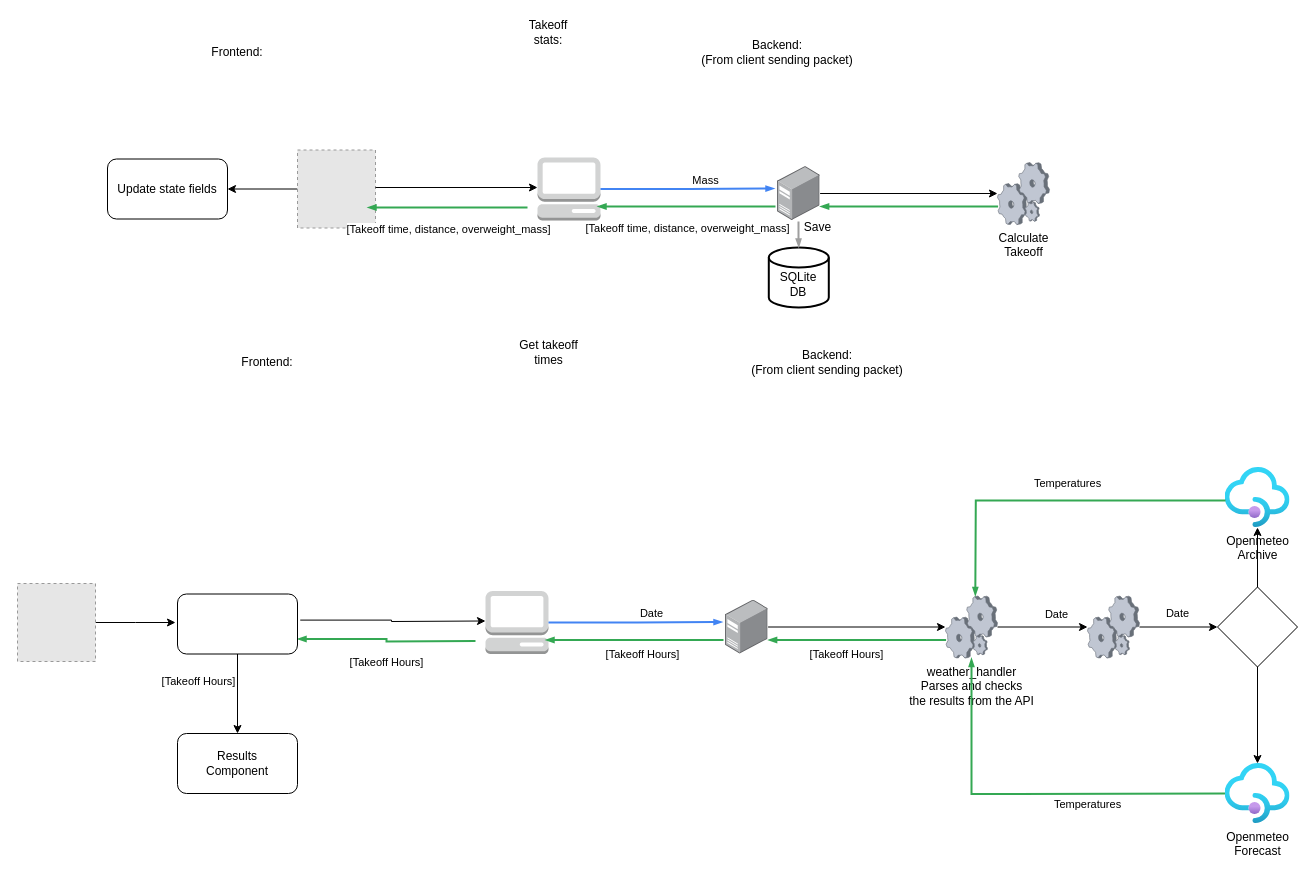
This 1315x876 diagram has some shape labels left out. Grey dashed boxes stand in for pictures. Each missing label, with the box of its shape:
getWeather: (1087, 596, 1139, 658)
Past 7 days?: (1216, 586, 1298, 667)
TimeComponent: (176, 593, 298, 654)
